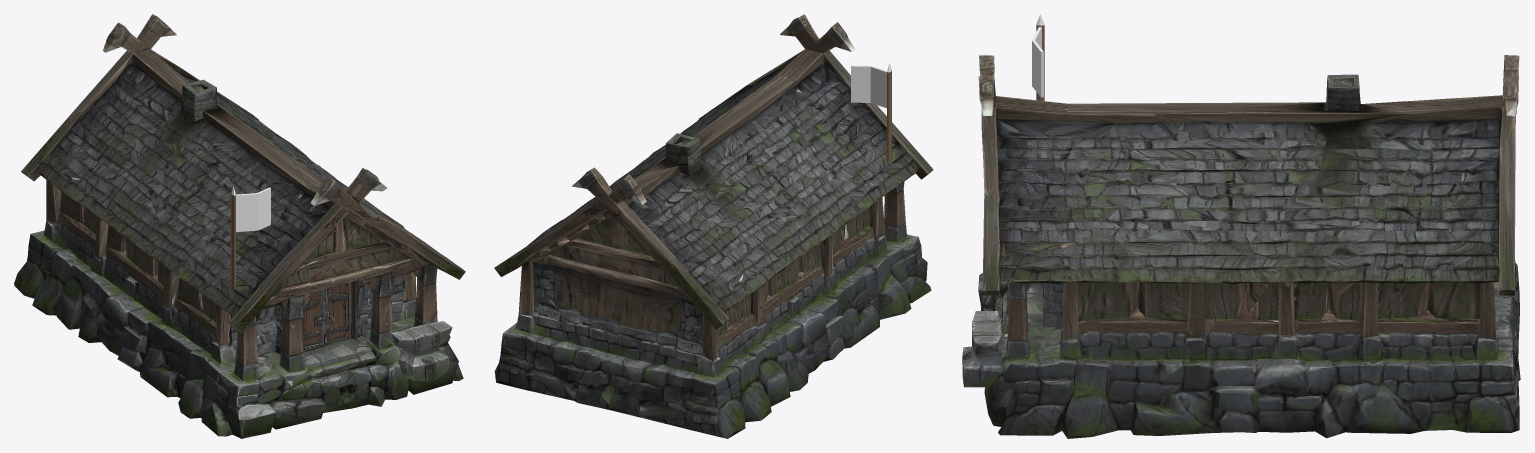
3 views of the same model, side by side, from view 1: azimuth 30°, elevation 25°; view 2: azimuth 150°, elevation 25°; view 3: azimuth 270°, elevation 25° (orthographic). The views are drawn at different scales.
Parts seen in each view (by area): view 1: ironhold_mead_hall, Team_banner; view 2: ironhold_mead_hall, Team_banner; view 3: ironhold_mead_hall, Team_banner.
Boxes of the visible parts, x1,y1,x2,y2 form: ironhold_mead_hall: (14, 14, 465, 438); Team_banner: (231, 186, 270, 288); ironhold_mead_hall: (494, 14, 933, 438); Team_banner: (851, 63, 891, 164); ironhold_mead_hall: (962, 55, 1520, 438); Team_banner: (1032, 14, 1044, 100).
Size of the model in its own units: 1.25 by 1.11 by 1.89.
Materials: 3 (1 with a texture image).
